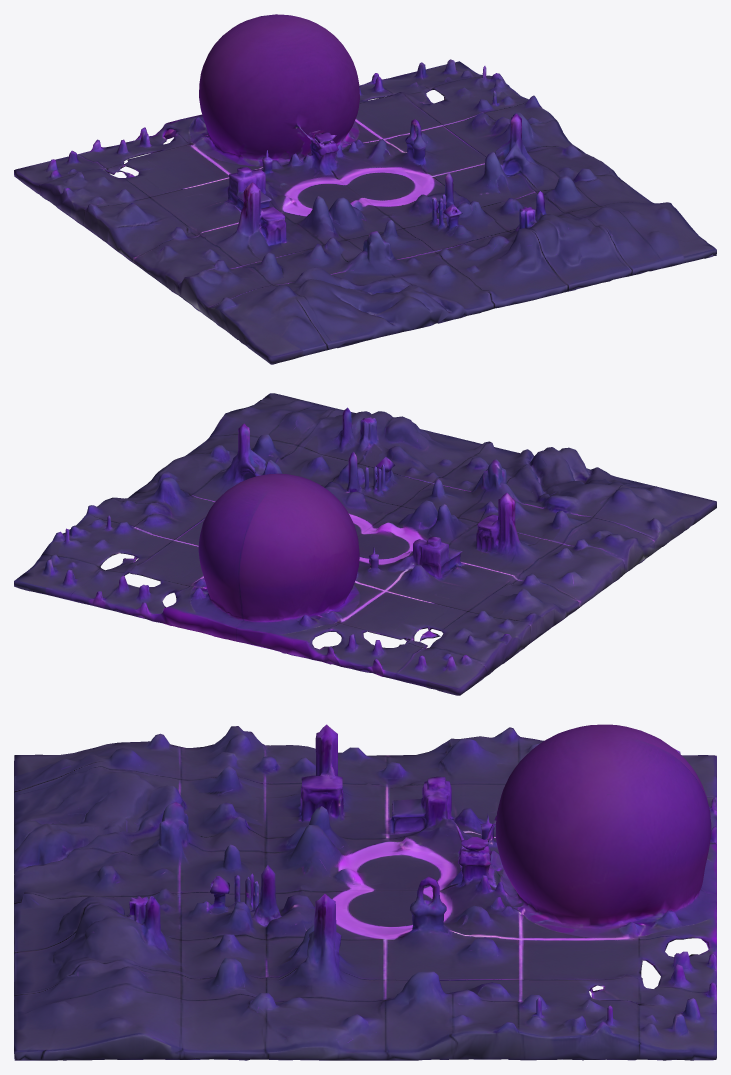
Rendered from psych.glb.
3 renders of one model, top to bottom at view 1: azimuth 30°, elevation 25°; view 2: azimuth 150°, elevation 25°; view 3: azimuth 270°, elevation 25°, orthographic. The views are drawn at different scales.
Bounding box in the file's own units: 1.91 × 0.5645 × 1.91.
Materials: 1 (1 with a texture image).
